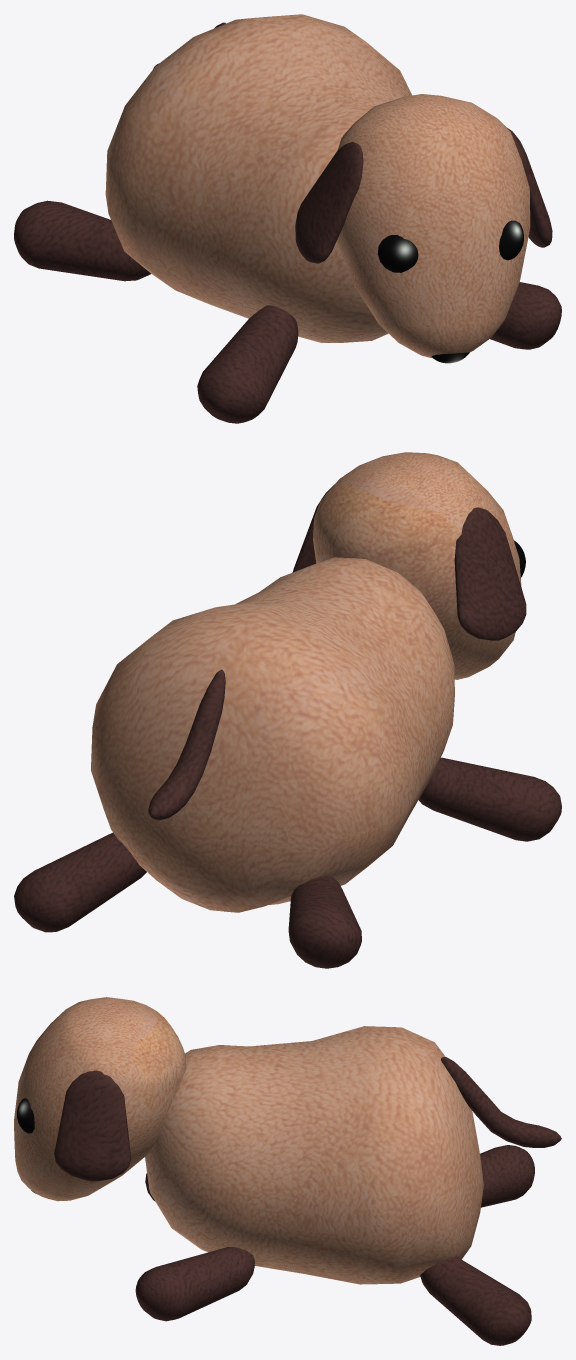
Rendered from plushhund.fbx.
3 renders of one model, top to bottom at view 1: azimuth 30°, elevation 25°; view 2: azimuth 150°, elevation 25°; view 3: azimuth 270°, elevation 25°, orthographic. The views are drawn at different scales.
Parts seen in each view (by area): view 1: pCylinder10; view 2: pCylinder10; view 3: pCylinder10.
Part boxes in pixels (x1,y1,x2,y2): pCylinder10: (14,14,561,423); pCylinder10: (14,452,561,968); pCylinder10: (14,997,561,1345).
Size of the model in its own units: 2.45 by 2.21 by 3.9.
